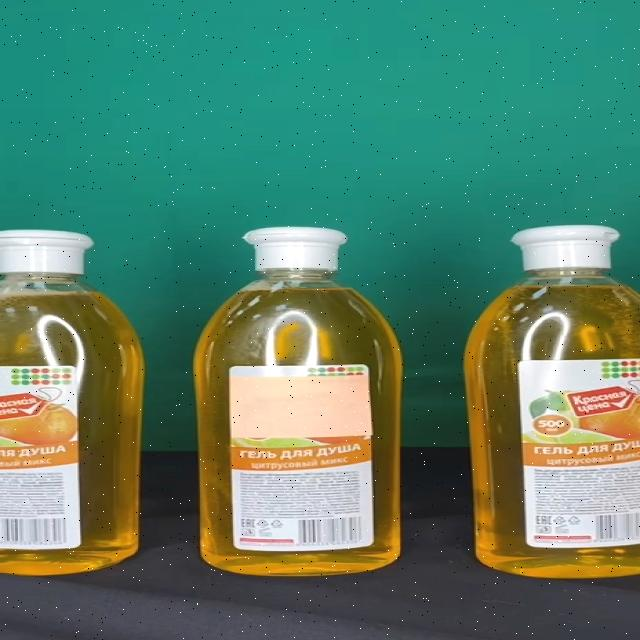Bottle: (195, 228, 402, 577), (463, 226, 640, 579)
Cap: (512, 226, 621, 270), (243, 228, 348, 270)
